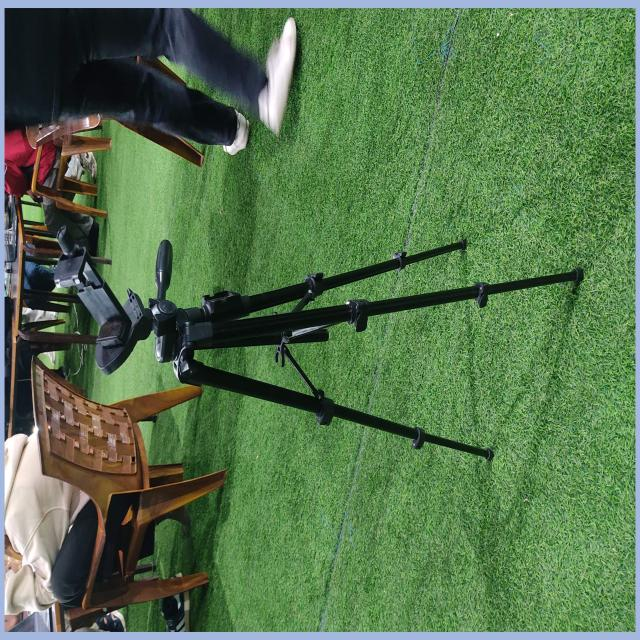Camer Stand: (42, 233, 584, 464)
Chair: (30, 354, 226, 632)
